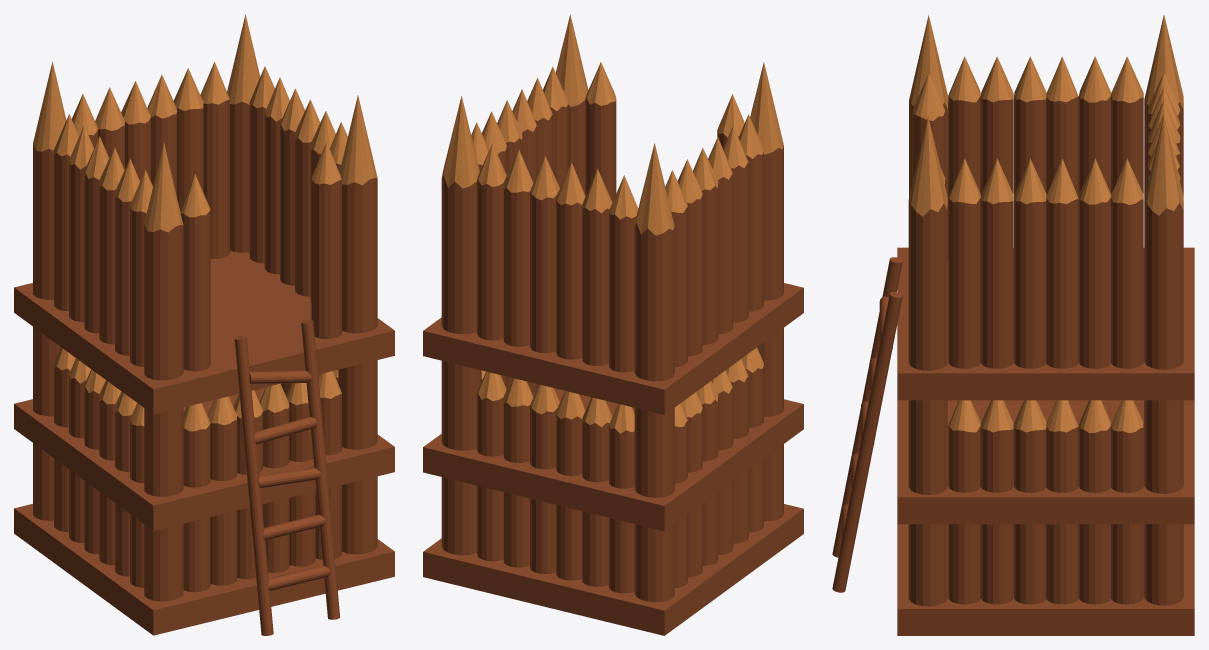
Rendered from wooden_fortress.fbx.
The picture shows the model from 3 angles, left to right: view 1: azimuth 30°, elevation 25°; view 2: azimuth 150°, elevation 25°; view 3: azimuth 270°, elevation 25°; orthographic projection. The views are drawn at different scales.
Visible parts, largest first — view 1: Cylinder; view 2: Cylinder; view 3: Cylinder.
Part boxes in pixels (x1,y1,x2,y2): Cylinder: (14,14,394,635); Cylinder: (423,14,803,635); Cylinder: (832,15,1194,635).
Size of the model in its own units: 360 by 681 by 438.
